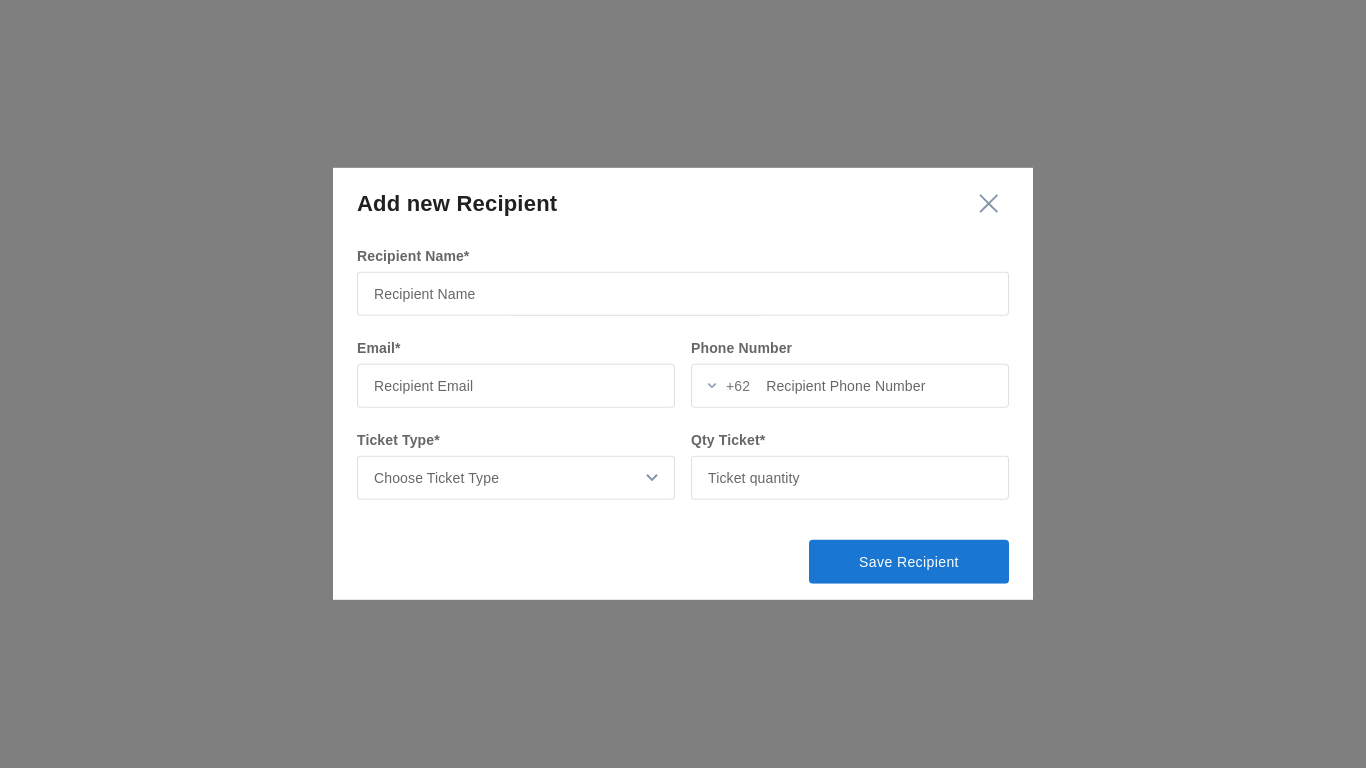
Test: AddNewRecipientModal › validates email format
Type "invalid-email" into the field with placeholder "Recipient Email" at (516, 386), box [358,365,674,407]
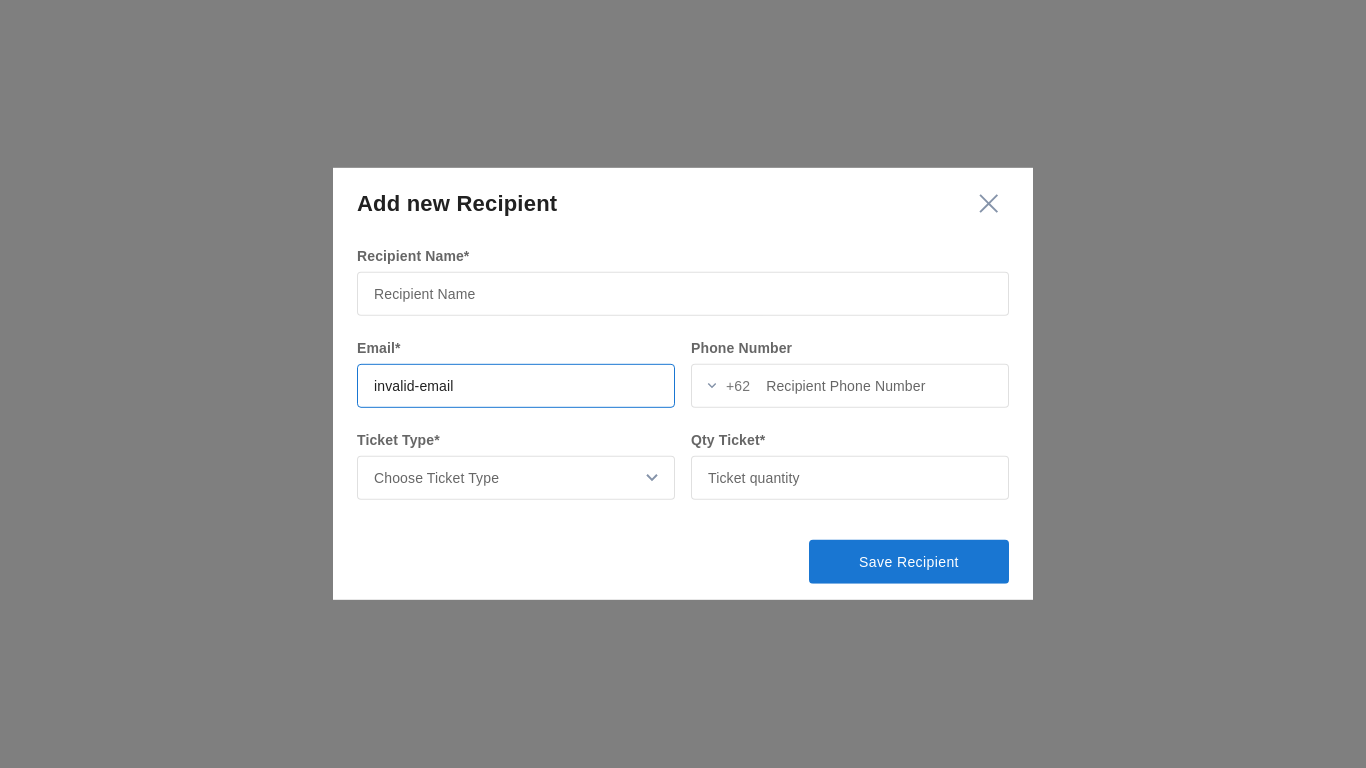
Click the button "Save Recipient" at (909, 562), box [809,540,1009,584]
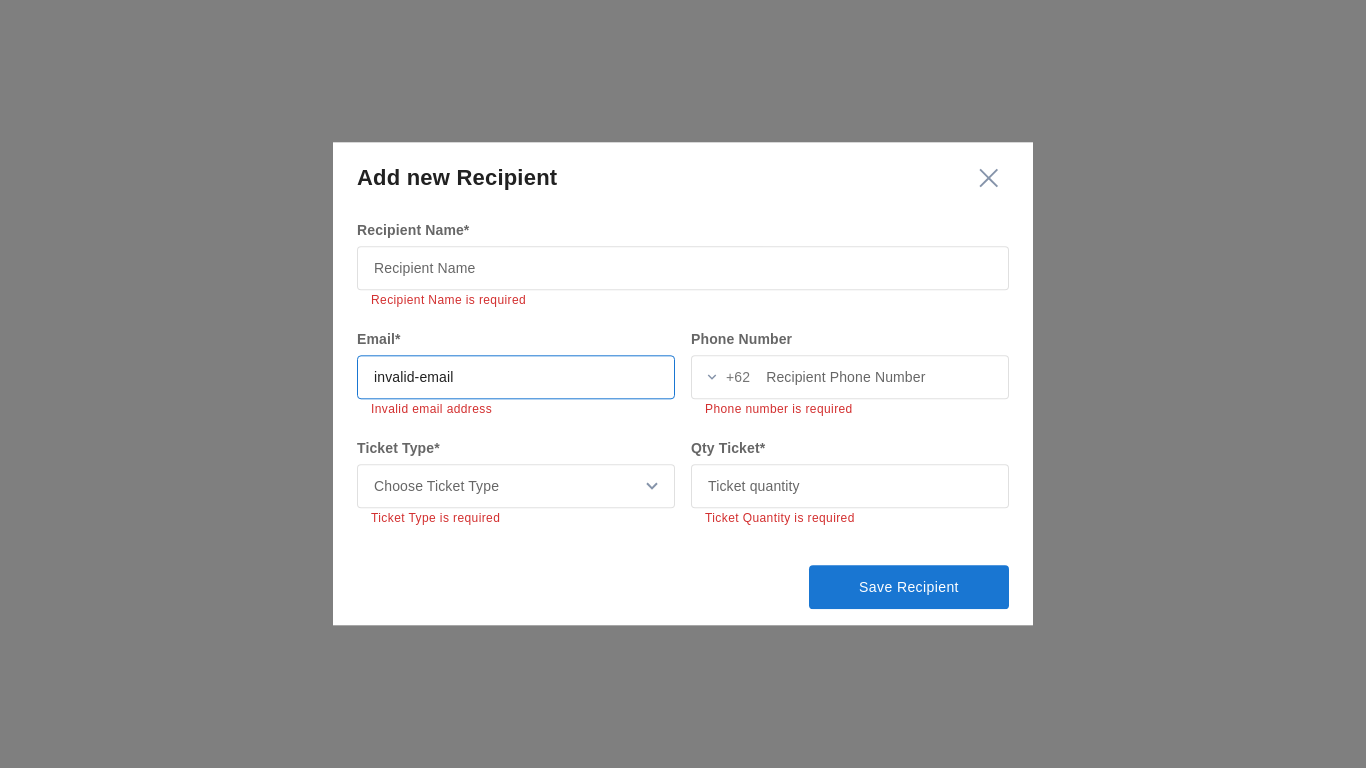
Check: the text "Invalid email address" is shown, box [371,403,492,417]
